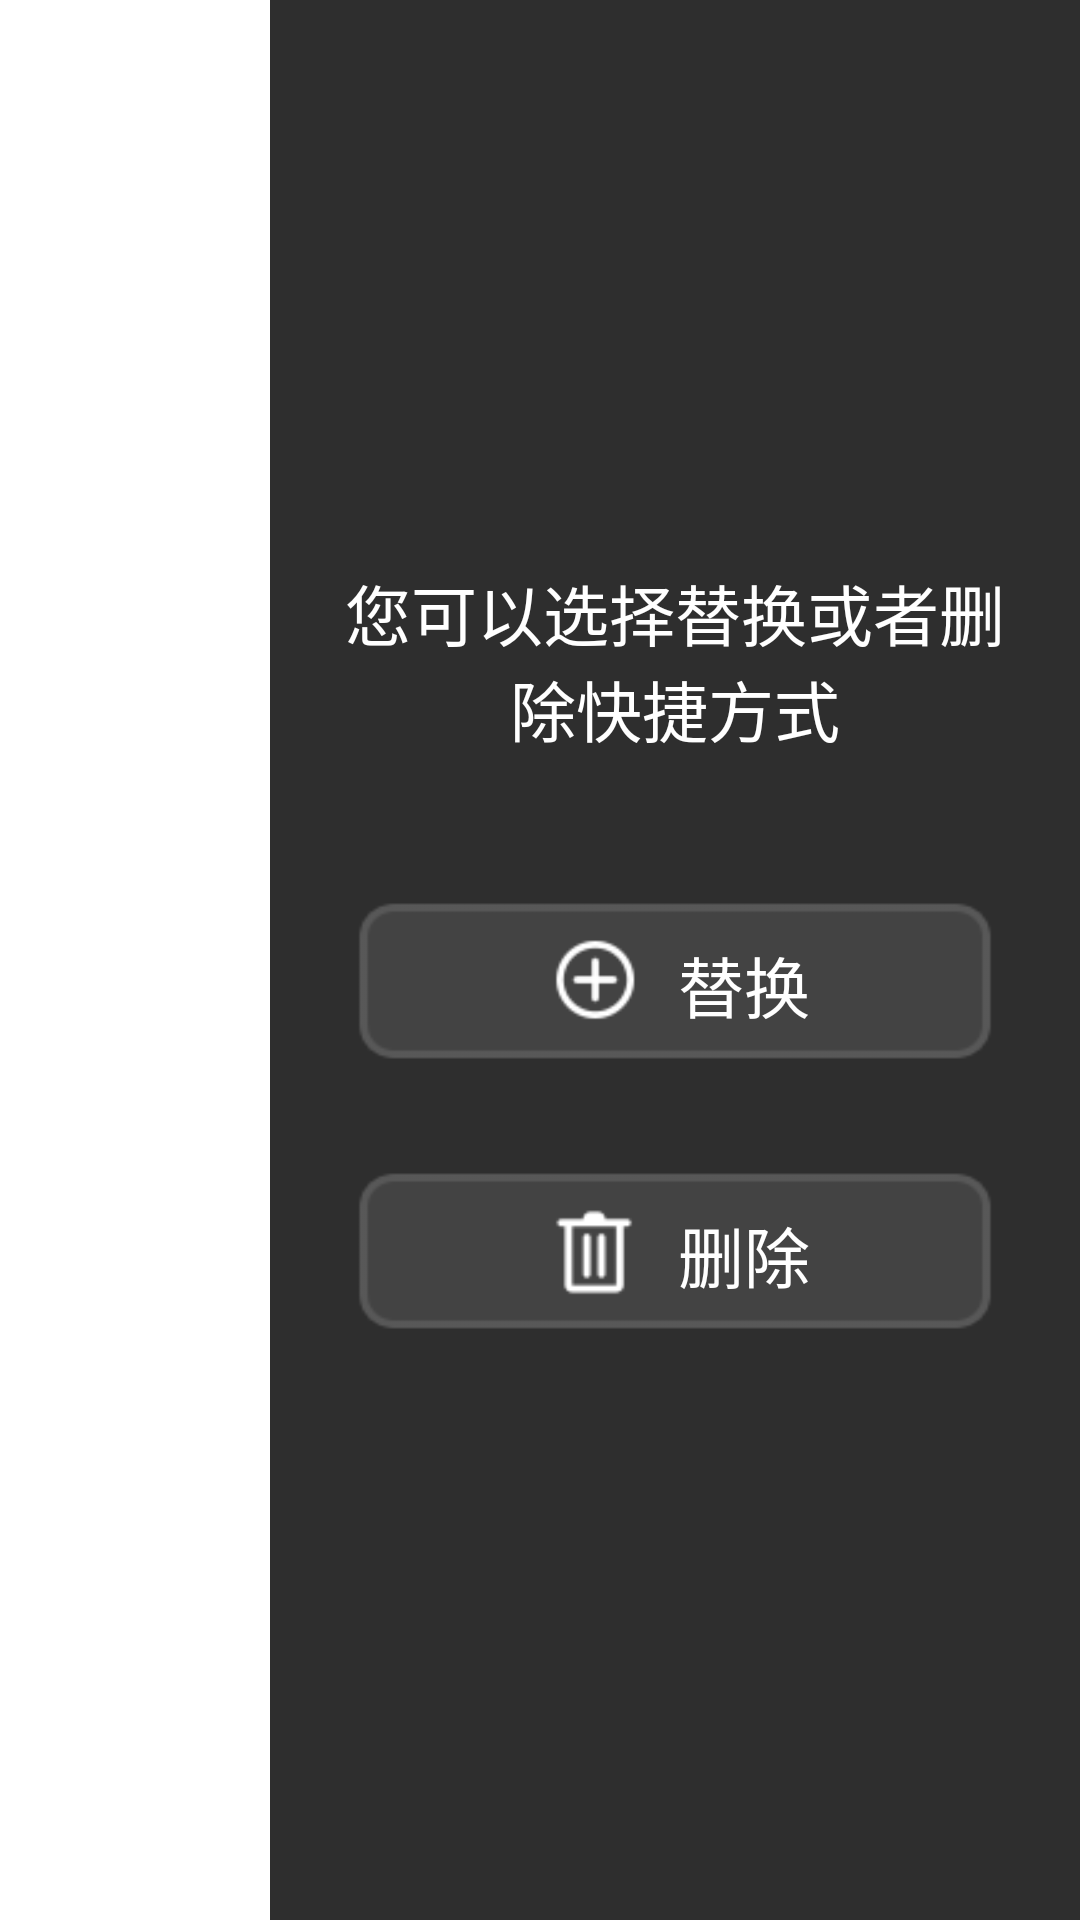

Locate icon controls on the screen. Image size 1080x1920, boxes as BBox(x1, y1, x2, y2).
del: BBox(556, 1210, 632, 1294)
